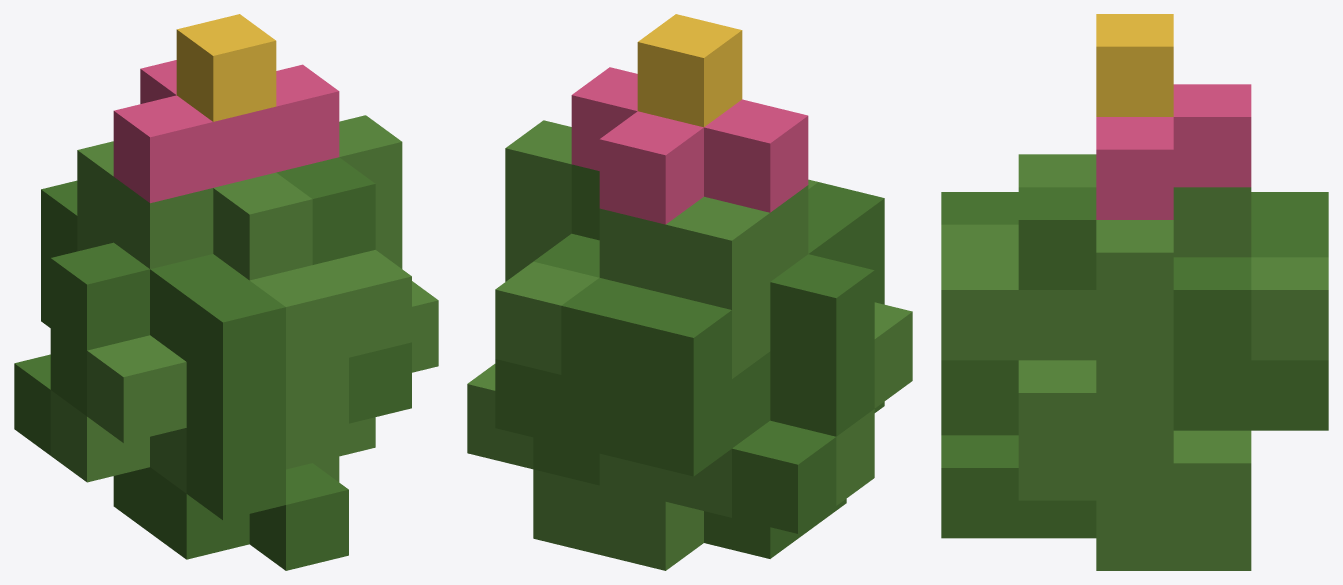
Rendered from BarrelCactus.fbx.
3 renders of one model, left to right at view 1: azimuth 30°, elevation 25°; view 2: azimuth 150°, elevation 25°; view 3: azimuth 270°, elevation 25°, orthographic. The views are drawn at different scales.
Parts seen in each view (by area): view 1: BarrelCactus; view 2: BarrelCactus; view 3: BarrelCactus.
Boxes of the visible parts, x1,y1,x2,y2 form: BarrelCactus: (14,14,438,570); BarrelCactus: (467,14,912,570); BarrelCactus: (941,14,1328,570).
Size of the model in its own units: 5 by 7 by 5.
